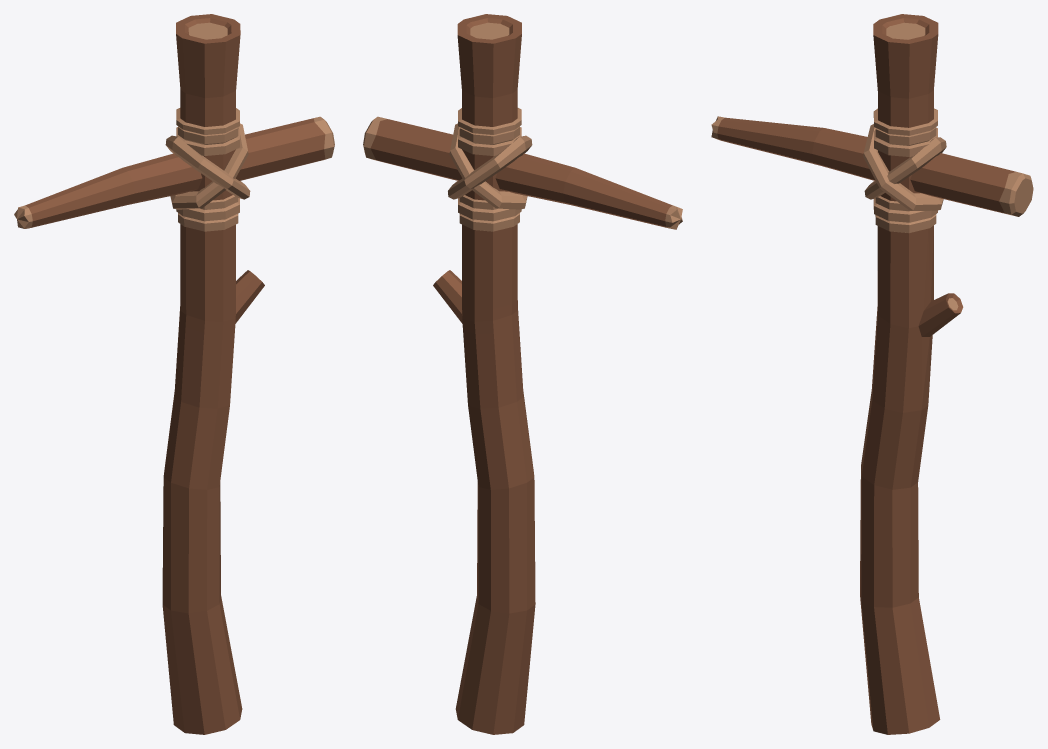
The model's file is Wooden Pickaxe.fbx.
3 views of the same model, side by side, from view 1: azimuth 30°, elevation 25°; view 2: azimuth 150°, elevation 25°; view 3: azimuth 330°, elevation 25° (orthographic).
Parts seen in each view (by area): view 1: Wooden Pickaxe; view 2: Wooden Pickaxe; view 3: Wooden Pickaxe.
Boxes of the visible parts, x1=… form: Wooden Pickaxe: x1=14, y1=14, x2=334, y2=734; Wooden Pickaxe: x1=363, y1=14, x2=682, y2=734; Wooden Pickaxe: x1=711, y1=14, x2=1033, y2=734.
Bounding box in the file's own units: 53.44 × 115 × 14.43.
